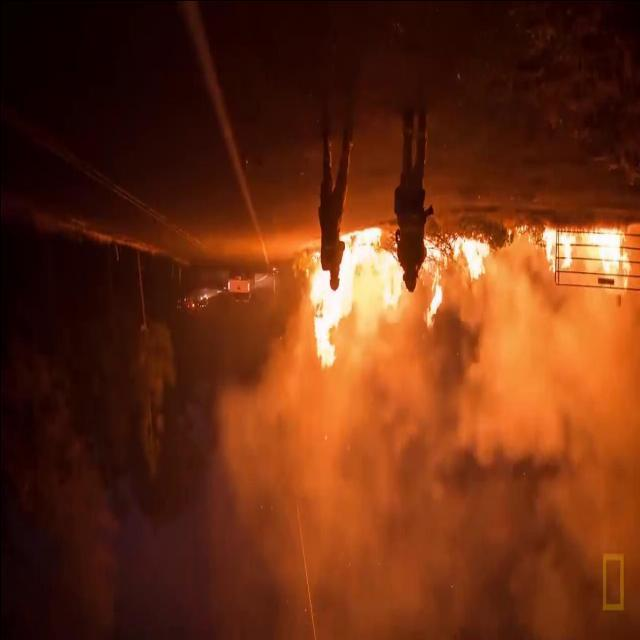Fire: (304, 227, 400, 369), (418, 237, 490, 327), (538, 226, 630, 296)
